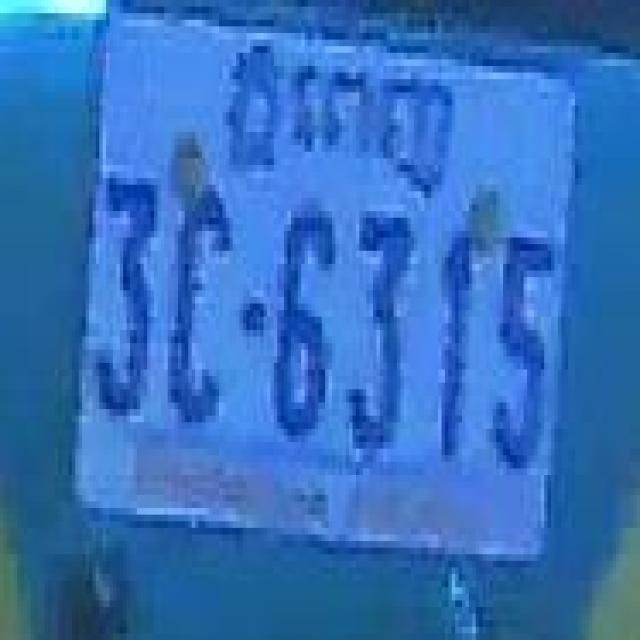Phnom_Penh: (229, 46, 450, 195)
